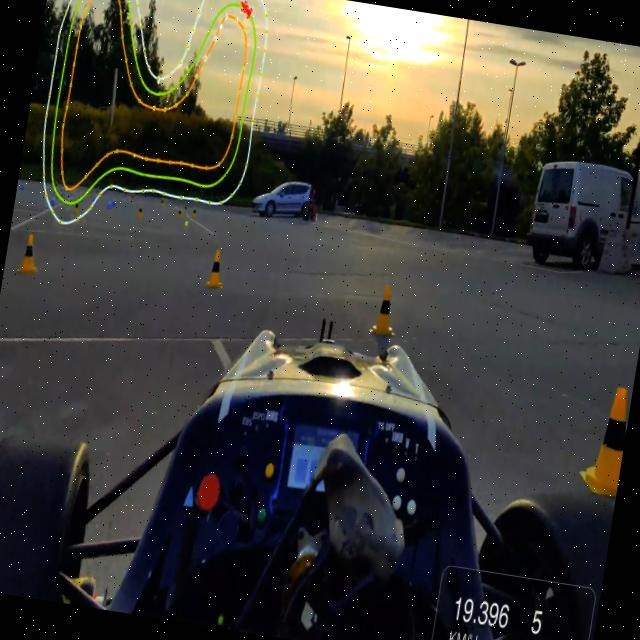blue_cone: (105, 194, 114, 211), (49, 190, 57, 208), (110, 192, 118, 208)
yellow_cone: (576, 372, 634, 502), (368, 280, 402, 340), (203, 246, 230, 292), (18, 230, 44, 276), (72, 196, 81, 217), (135, 202, 144, 222), (191, 203, 198, 220), (176, 206, 182, 220)
